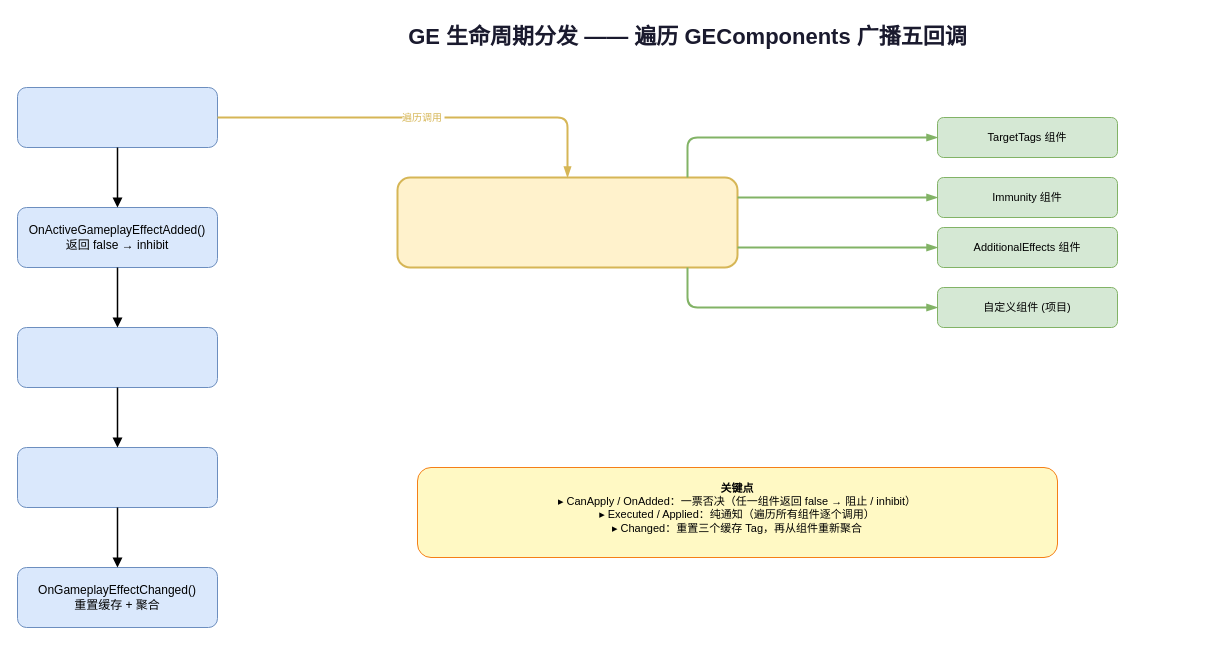
Some shapes in this 1205 by 645 pixel diagram are drawn without their labels. Here are the shapes that lost their labels. From the top down, the centre of each, then its label:
At pixel 117 117: "CanApply() 一票否决".
At pixel 567 222: "GEComponents TArray<TObjectPtr<UGameplayEffectComponent>> (Instanced)".
At pixel 117 357: "OnGameplayEffectExecuted() 仅 Authority / instant+周期".
At pixel 117 477: "OnGameplayEffectApplied() 应用/堆叠，优先用".
